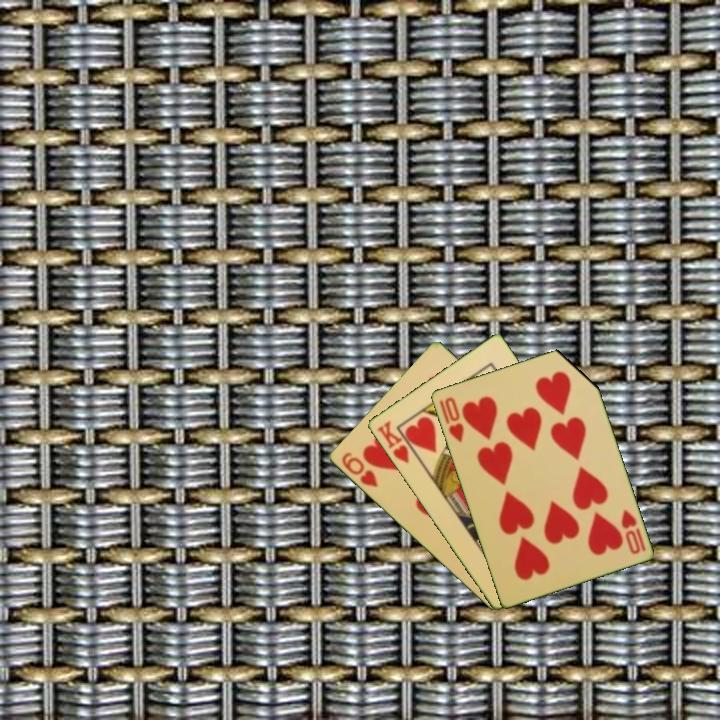10h: (435, 393, 467, 445), (617, 505, 648, 557)
6h: (337, 449, 381, 490)
Kh: (373, 417, 421, 466)
